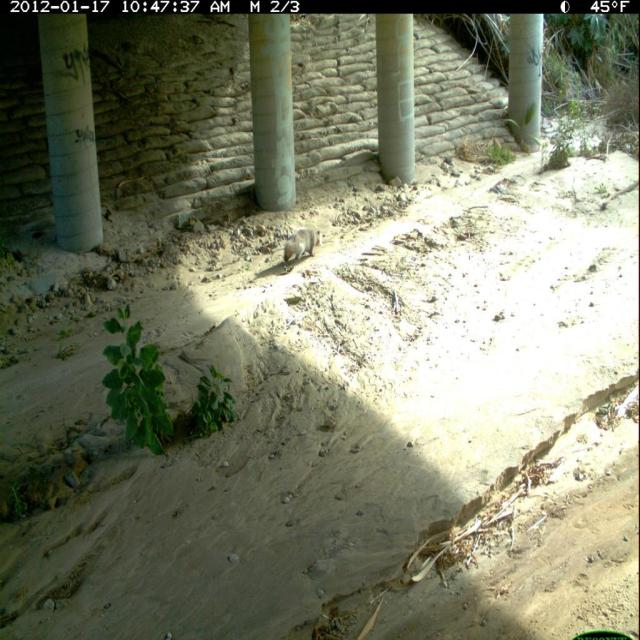opossum: (267, 225, 328, 269)
